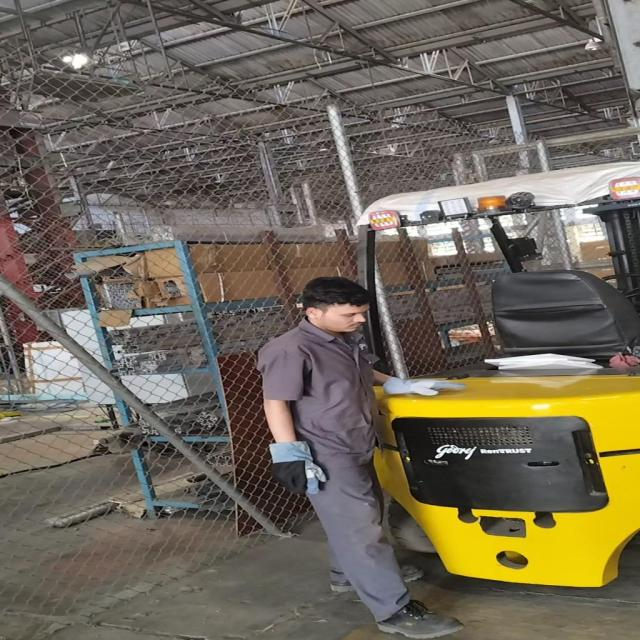Gloves-Detection: (252, 438, 332, 495), (380, 379, 468, 403)
